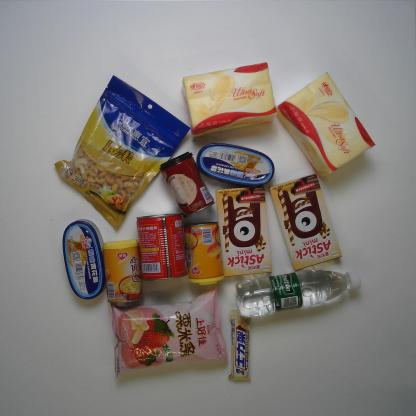Canned Food: (159, 150, 216, 219), (136, 211, 190, 282), (62, 218, 107, 301), (196, 142, 275, 186), (184, 219, 226, 286), (102, 239, 144, 304)
Chocolate: (227, 308, 253, 382)
Dessert: (268, 173, 343, 272), (215, 183, 273, 278)
Dried Fruit: (53, 73, 192, 230)
Drink: (235, 268, 362, 319)
Puffed Food: (110, 283, 228, 380)
Tissue: (274, 72, 376, 178), (181, 61, 278, 138)
